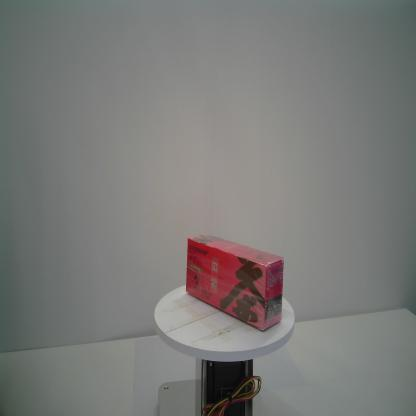Instant Drink: (185, 233, 285, 332)
